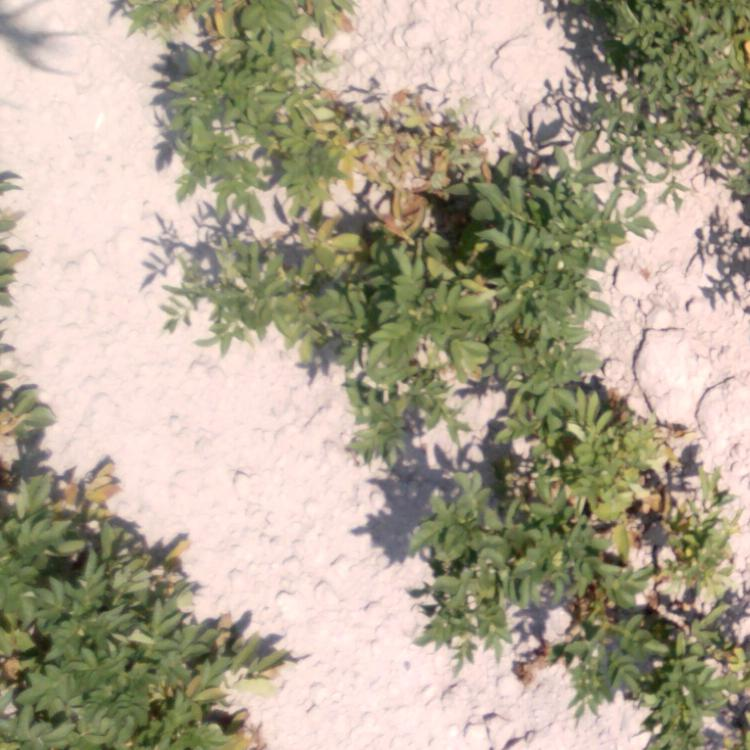healthy: (4, 560, 266, 747), (483, 183, 591, 382), (408, 478, 521, 648), (557, 82, 748, 179), (541, 1, 748, 75), (344, 375, 466, 457), (703, 185, 750, 279)
stressed: (168, 217, 483, 379), (124, 1, 341, 196), (511, 390, 713, 577), (587, 577, 747, 750), (1, 162, 55, 473), (349, 82, 457, 213), (1, 462, 141, 546)
